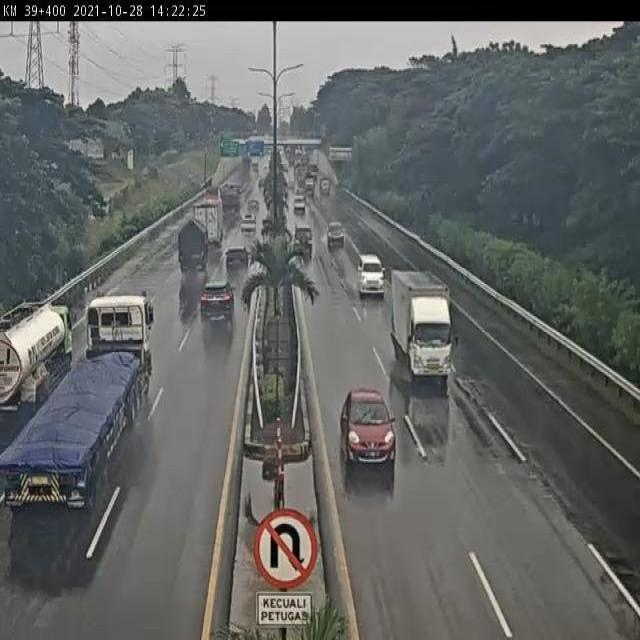car: (339, 388, 398, 471), (198, 278, 235, 326), (354, 249, 386, 299), (224, 244, 250, 273), (291, 226, 314, 258), (239, 209, 258, 236), (325, 218, 344, 245), (246, 198, 260, 218)
small truck: (388, 267, 456, 380)
truck-l-: (193, 199, 225, 248)
truck-m-: (0, 298, 74, 418), (176, 217, 211, 275)
truck-xl-: (0, 291, 154, 508)
